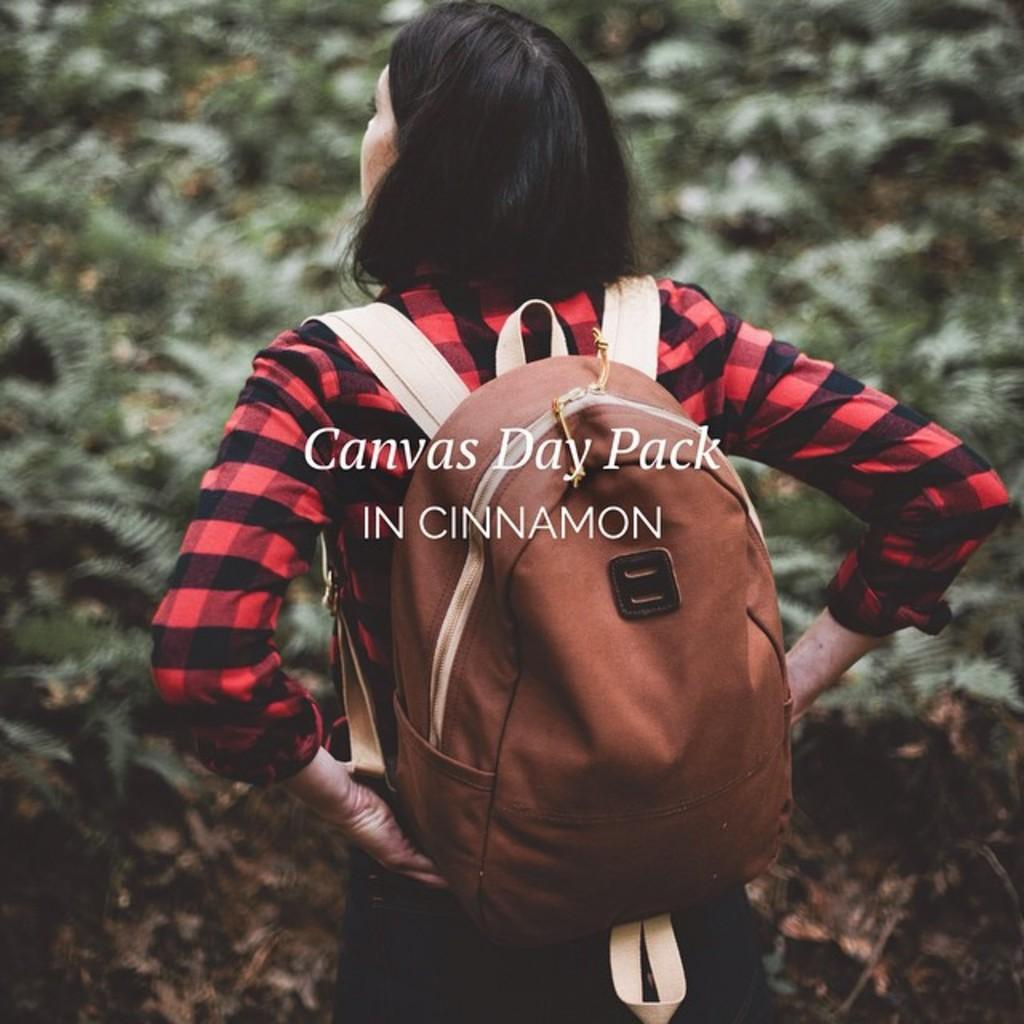Luggage-and-bags: (305, 274, 798, 952)
